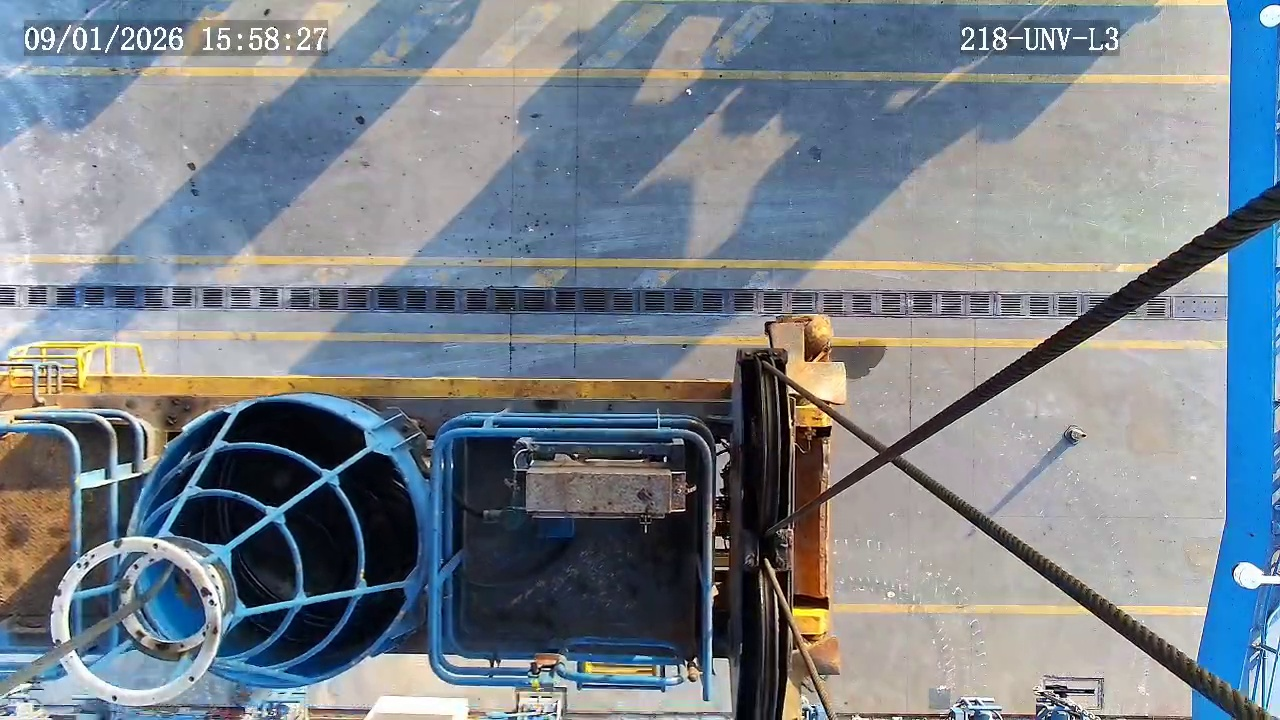right: (124, 400, 423, 688)
